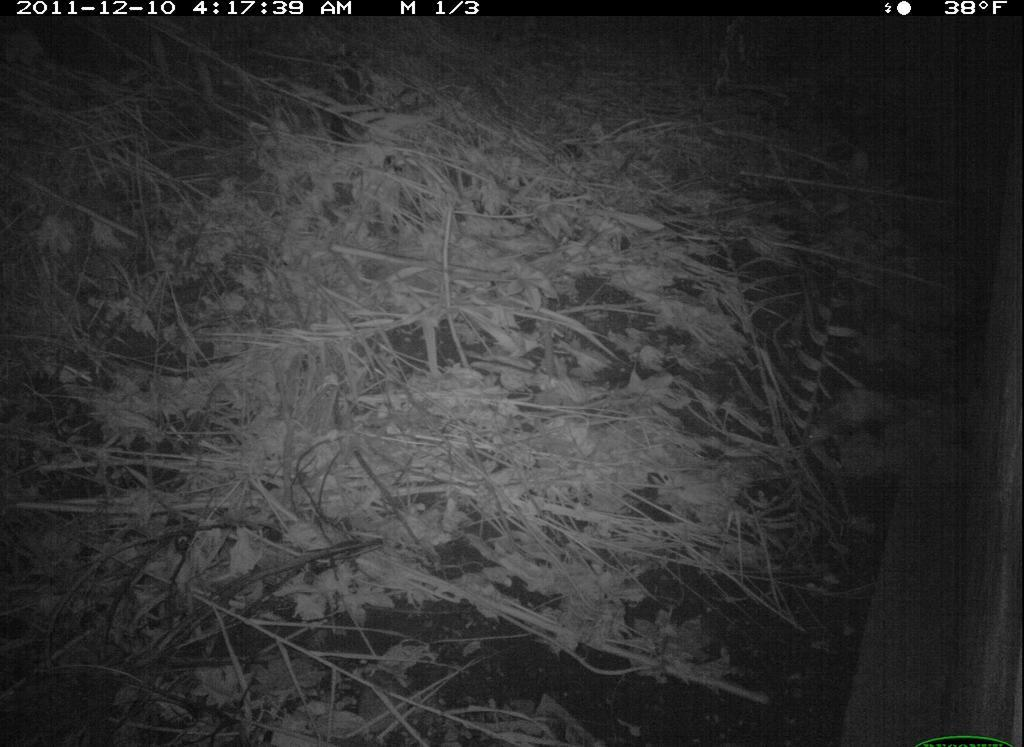opossum: (771, 359, 911, 457)
